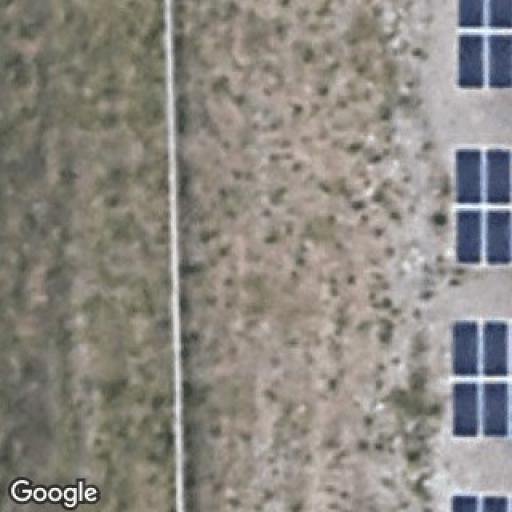solar-panel: (451, 142, 512, 268), (448, 323, 512, 442), (454, 2, 512, 91), (448, 493, 512, 512)
